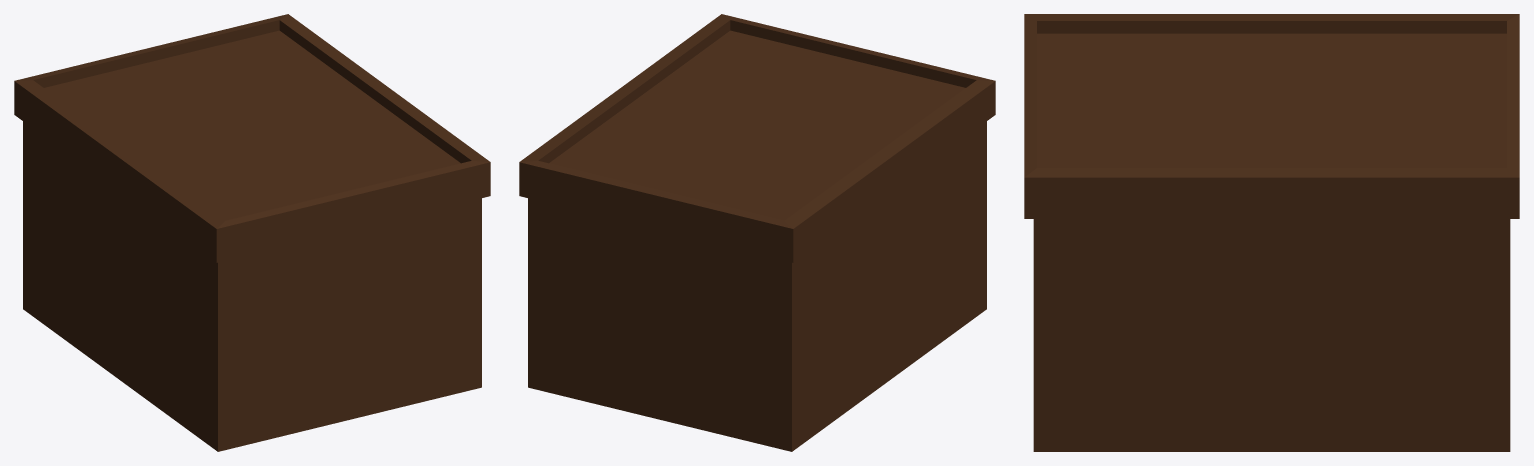
File: storageCrate.fbx
3 views of the same model, side by side, from view 1: azimuth 30°, elevation 25°; view 2: azimuth 150°, elevation 25°; view 3: azimuth 270°, elevation 25° (orthographic). The views are drawn at different scales.
Visible parts, largest first — view 1: Cube; view 2: Cube; view 3: Cube.
Boxes of the visible parts, left/top/right/bottom form: Cube: left=14, top=14, right=490, bottom=451; Cube: left=519, top=14, right=995, bottom=451; Cube: left=1024, top=14, right=1519, bottom=451.
Size of the model in its own units: 162 by 129 by 208.
